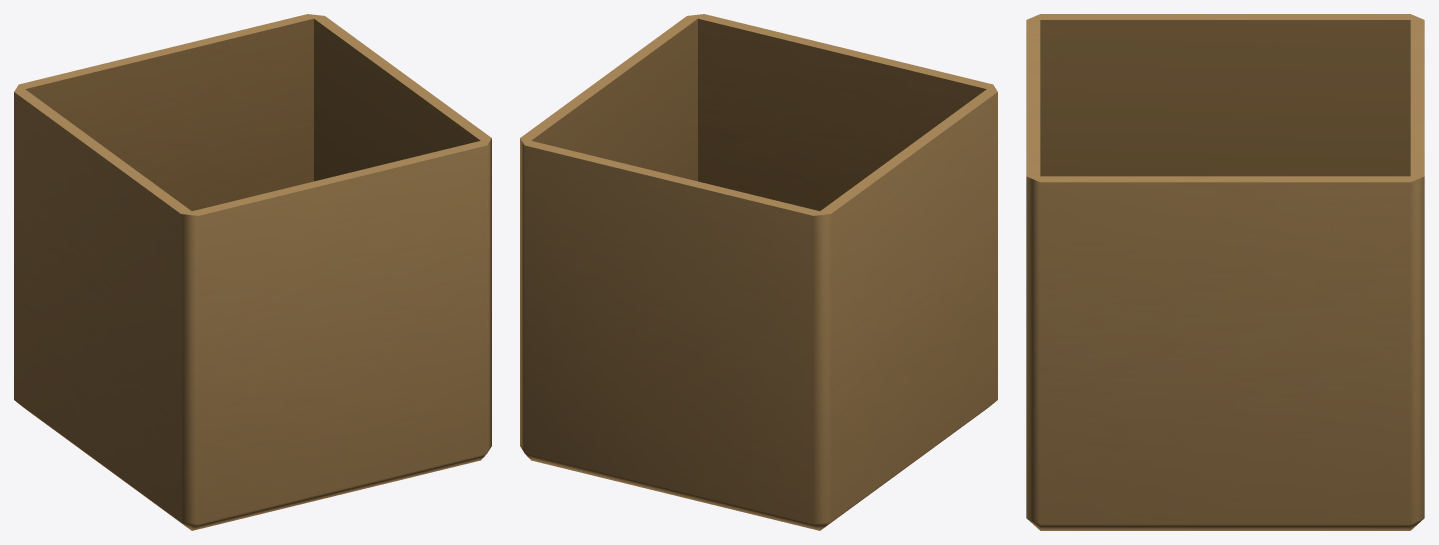
File: box_cardboard_large_square_open.fbx
3 views of the same model, side by side, from view 1: azimuth 30°, elevation 25°; view 2: azimuth 150°, elevation 25°; view 3: azimuth 270°, elevation 25° (orthographic). The views are drawn at different scales.
Parts seen in each view (by area): view 1: box_cardboard_large_square_open; view 2: box_cardboard_large_square_open; view 3: box_cardboard_large_square_open.
Boxes of the visible parts, bbox=[...] form: box_cardboard_large_square_open: bbox=[14, 14, 491, 530]; box_cardboard_large_square_open: bbox=[520, 14, 997, 530]; box_cardboard_large_square_open: bbox=[1026, 14, 1424, 530].
Bounding box in the file's own units: 104 × 102 × 104.
